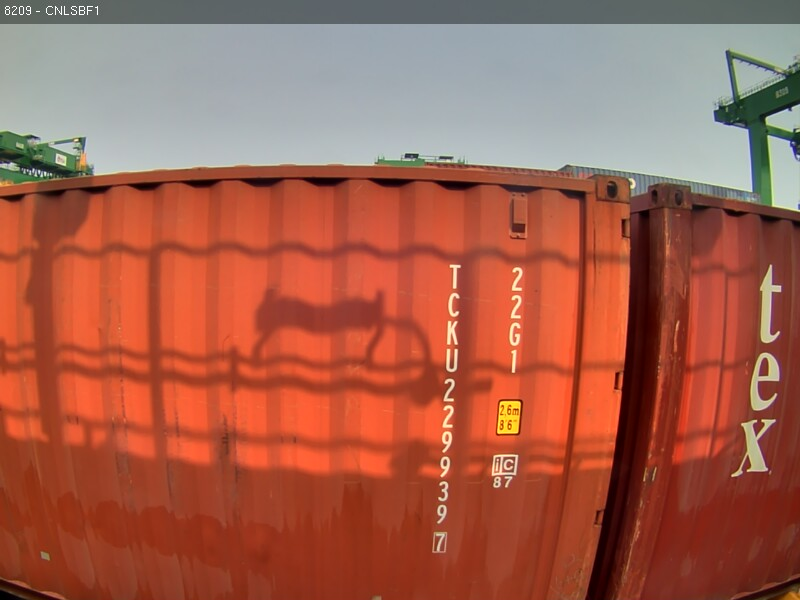container_no_door: (135, 155, 641, 600)
